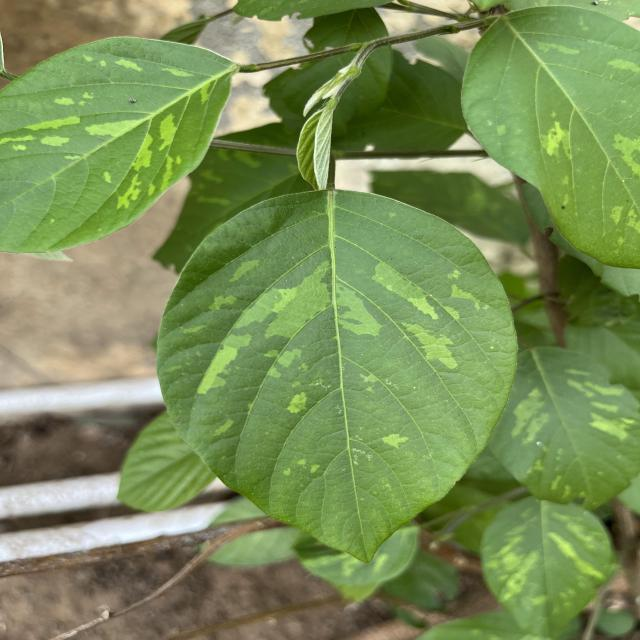Desmodium gangeticum: (151, 184, 524, 568), (0, 34, 242, 256), (455, 3, 640, 278)
